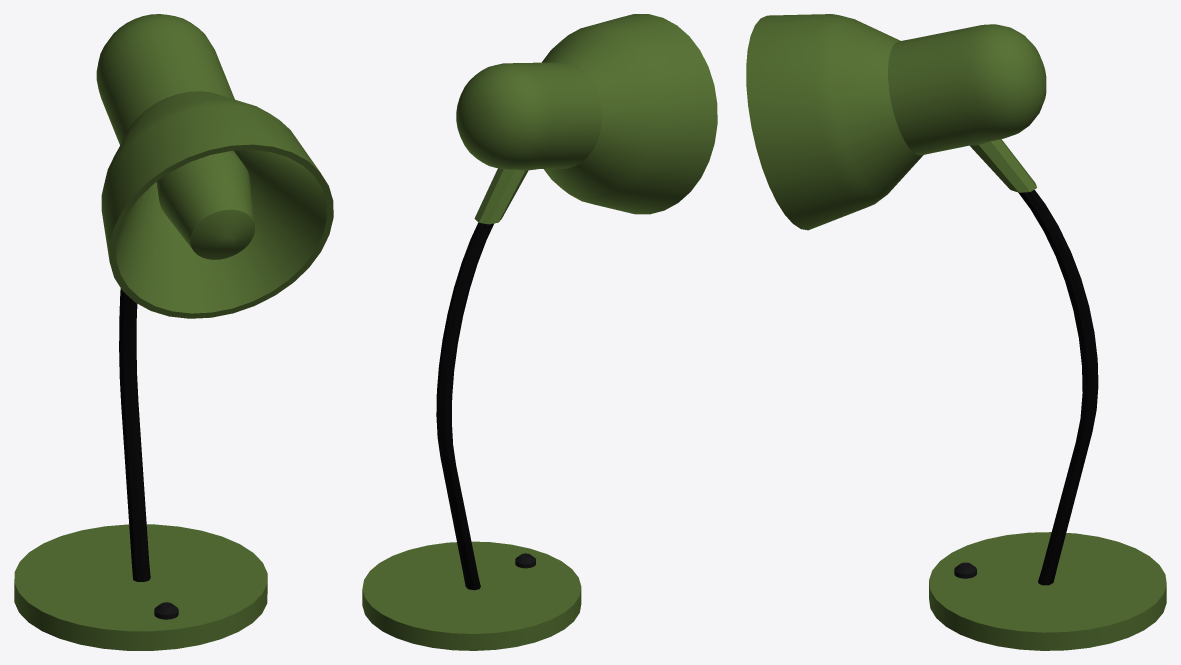
The model's file is Lampara.fbx.
3 views of the same model, side by side, from view 1: azimuth 30°, elevation 25°; view 2: azimuth 150°, elevation 25°; view 3: azimuth 270°, elevation 25° (orthographic). The views are drawn at different scales.
Visible parts, largest first — view 1: Lampara sup; view 2: Lampara sup; view 3: Lampara sup.
Boxes of the visible parts, x1,y1,x2,y2 form: Lampara sup: [14, 14, 333, 650]; Lampara sup: [362, 14, 717, 650]; Lampara sup: [746, 14, 1166, 650].
Size of the model in its own units: 17.91 by 38.75 by 26.13.
